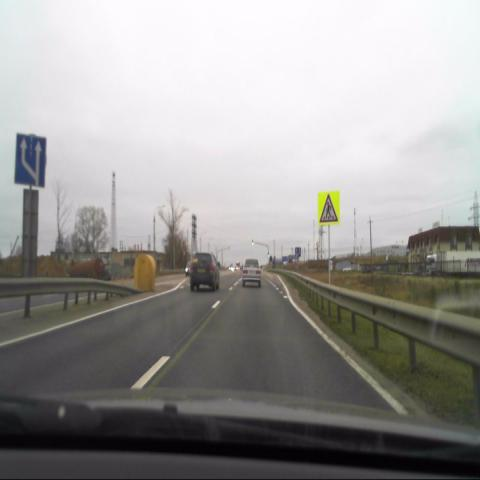1_22: (317, 191, 339, 224)
5_15_3: (15, 133, 46, 186)
